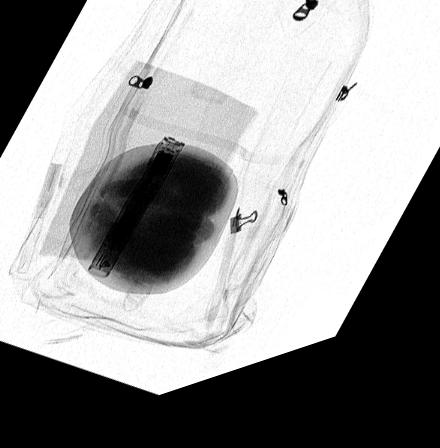Baton: (86, 145, 184, 285)
